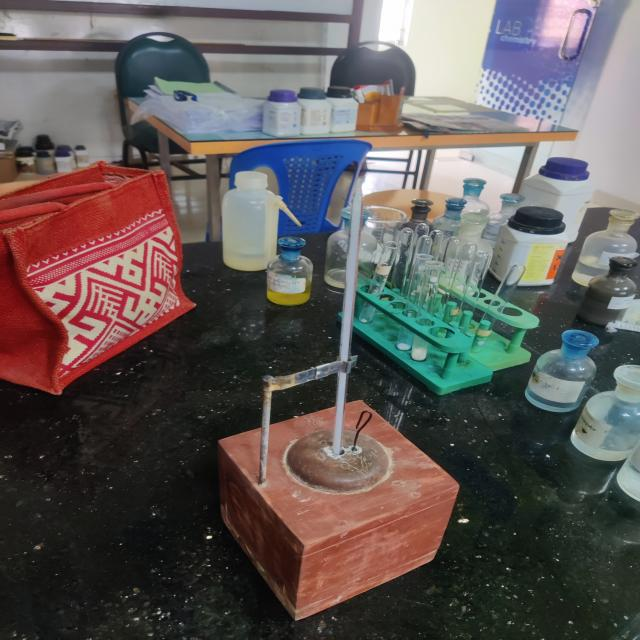Calorimeter: (176, 152, 526, 637)
